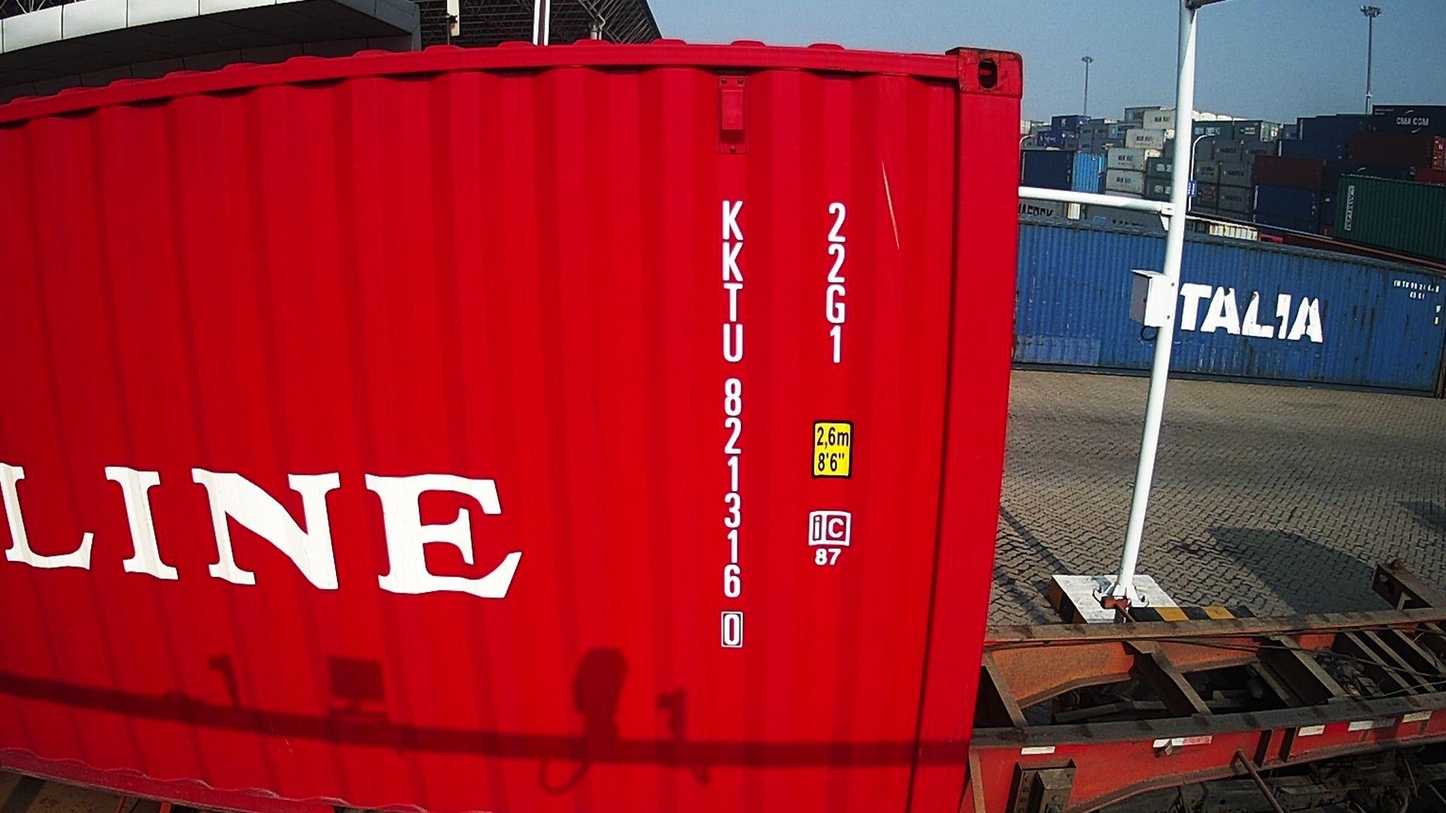container-numbers: (709, 195, 752, 653), (822, 199, 854, 367)
